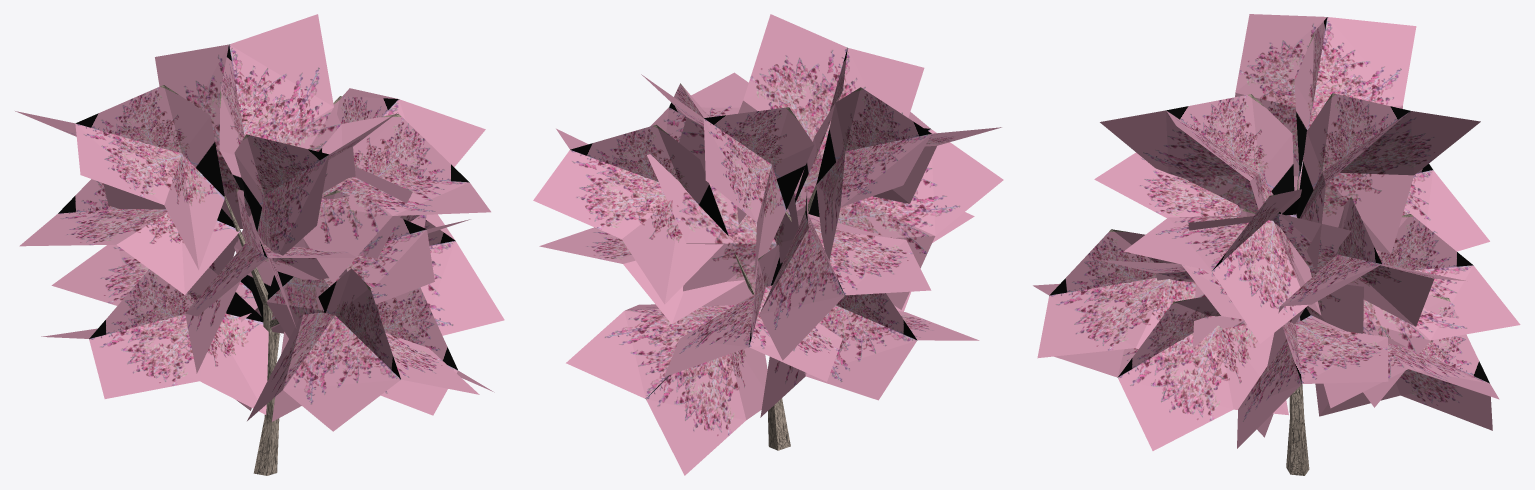
The model's file is VEG0210050.fbx.
The picture shows the model from 3 angles, left to right: view 1: azimuth 30°, elevation 25°; view 2: azimuth 150°, elevation 25°; view 3: azimuth 270°, elevation 25°; orthographic projection. The views are drawn at different scales.
Parts seen in each view (by area): view 1: smVEG0210050; view 2: smVEG0210050; view 3: smVEG0210050.
Boxes of the visible parts, x1,y1,x2,y2 form: smVEG0210050: (15,14,504,475); smVEG0210050: (533,14,1003,475); smVEG0210050: (1033,14,1520,475).
Bounding box in the file's own units: 719 × 637 × 713.
1 material, 1 textured.
